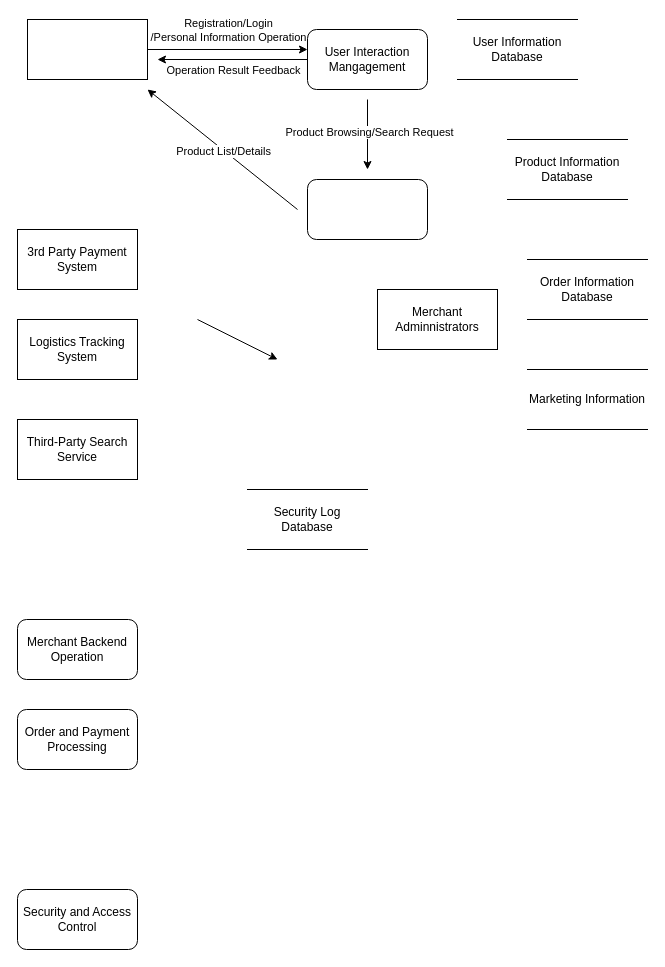
Some shapes in this 665 by 967 pixel diagram are drawn without their labels. Here are the shapes that lost their labels. From the top down, the centre of each, then its label:
At point (87, 49): "Terminal Users".
At point (367, 209): "Search and Recommendation Service".
